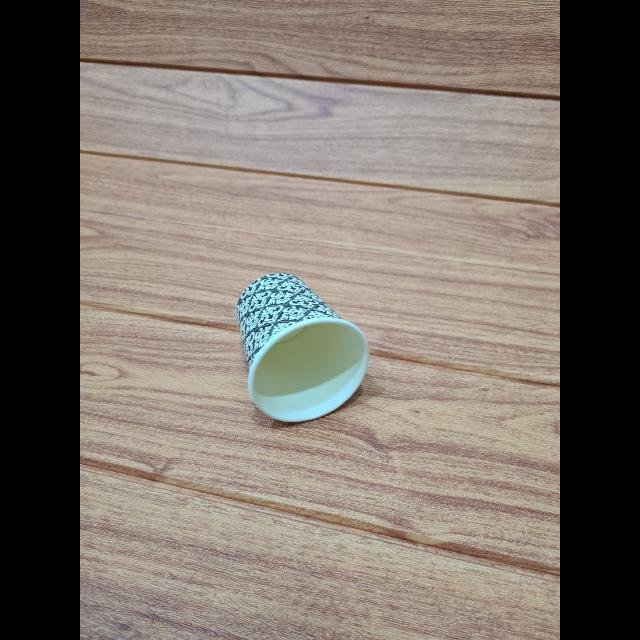trash: (230, 274, 374, 432)
